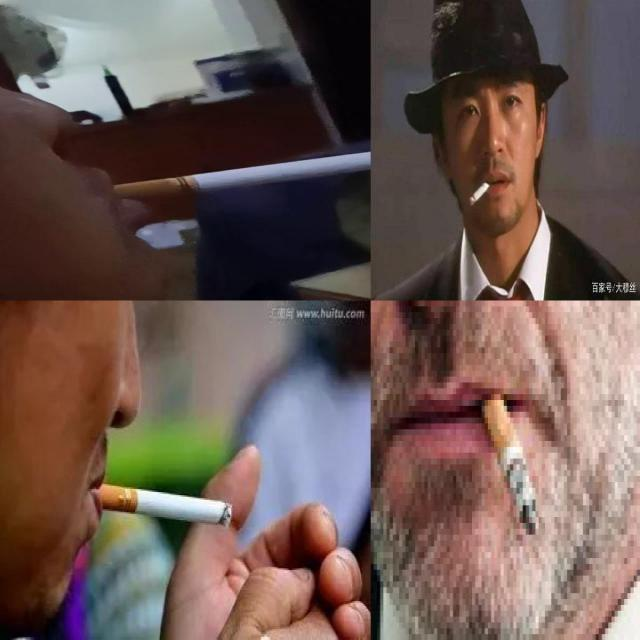cigarette: (109, 147, 370, 201), (477, 376, 539, 536), (93, 484, 234, 528), (469, 177, 494, 206)
